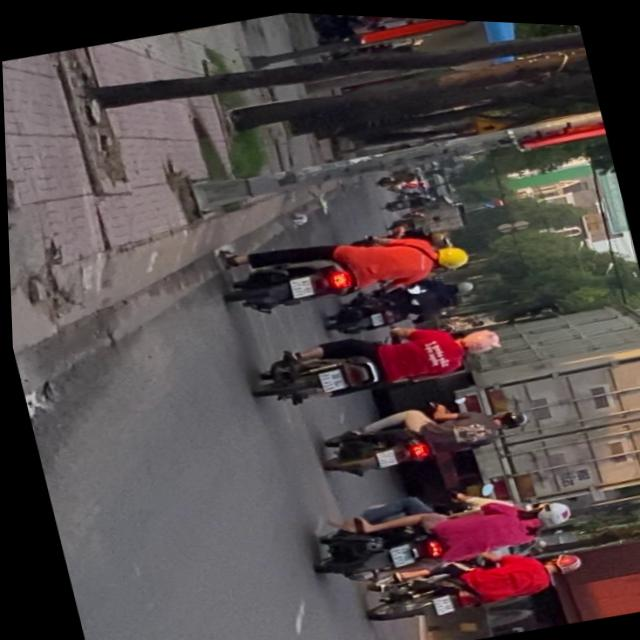helmet: (519, 492, 569, 529), (453, 322, 500, 356), (428, 237, 469, 270), (540, 544, 581, 575), (493, 404, 530, 429)
licenseplate: (297, 459, 581, 597), (212, 204, 477, 330), (240, 300, 508, 423), (351, 528, 588, 634), (308, 379, 536, 487)
nohelmet: (313, 364, 344, 390), (386, 540, 411, 564), (287, 273, 312, 296), (371, 445, 395, 466), (429, 591, 451, 612)
